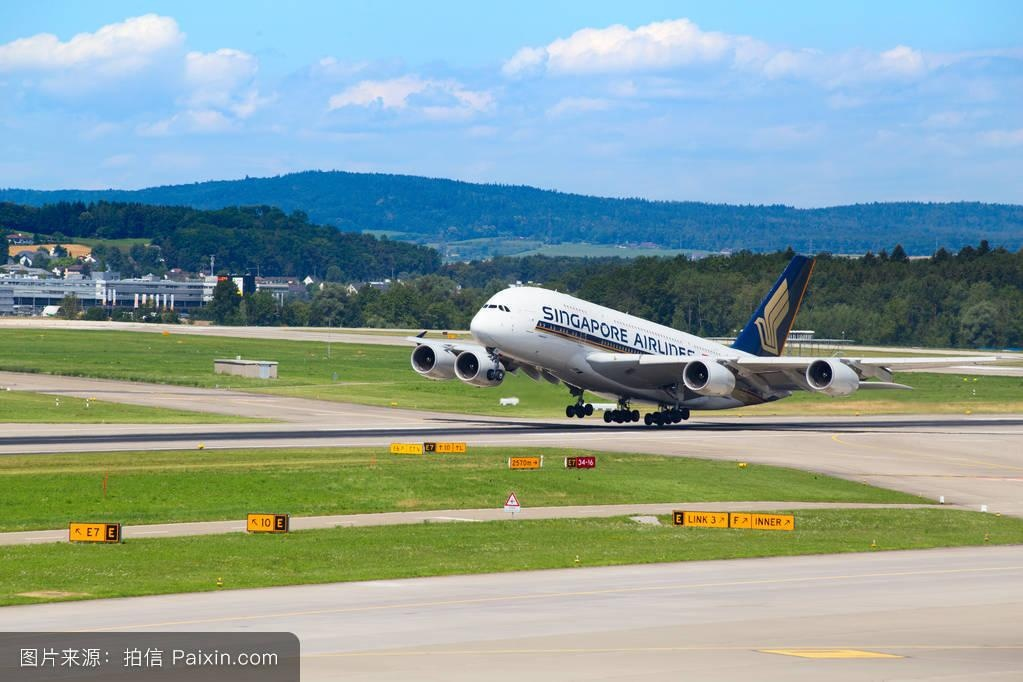airplane: (375, 246, 921, 426)
